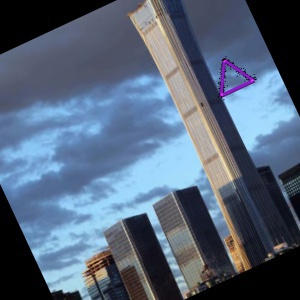triangle: (216, 57, 256, 98)
